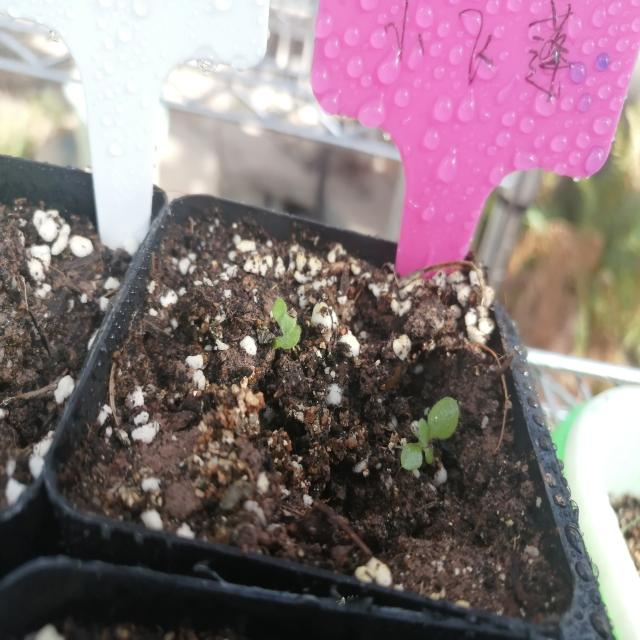horseweed: (385, 372, 473, 490)
